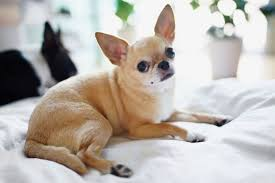chihuahua: (23, 3, 233, 169)
